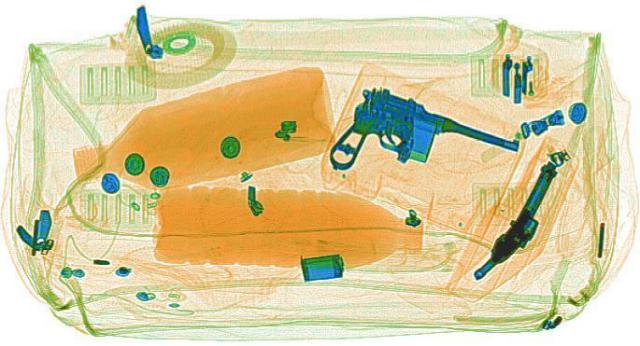Gun: (275, 82, 531, 203), (467, 157, 575, 282)
